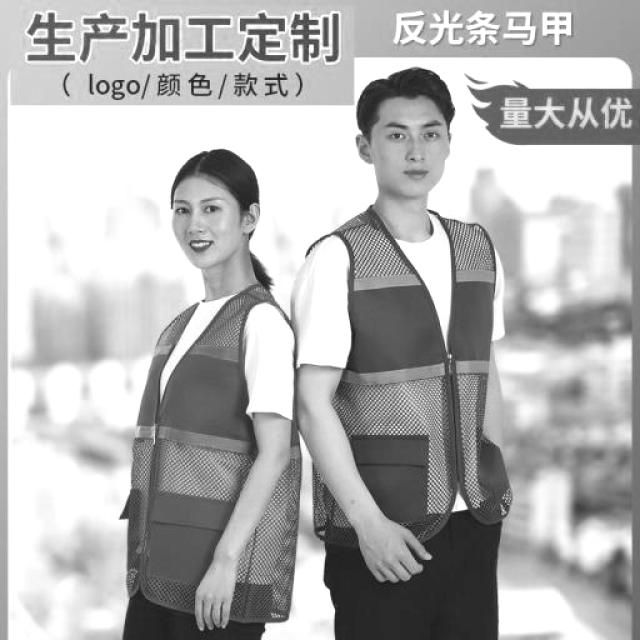face_nomask: (376, 117, 448, 189), (171, 192, 237, 262)
hand_noglove: (358, 516, 438, 584), (186, 559, 249, 635)
head_nohelmet: (355, 60, 457, 122), (167, 146, 268, 199)
person: (294, 64, 518, 640), (119, 141, 308, 629)
vest: (314, 202, 518, 526), (130, 283, 302, 619)
